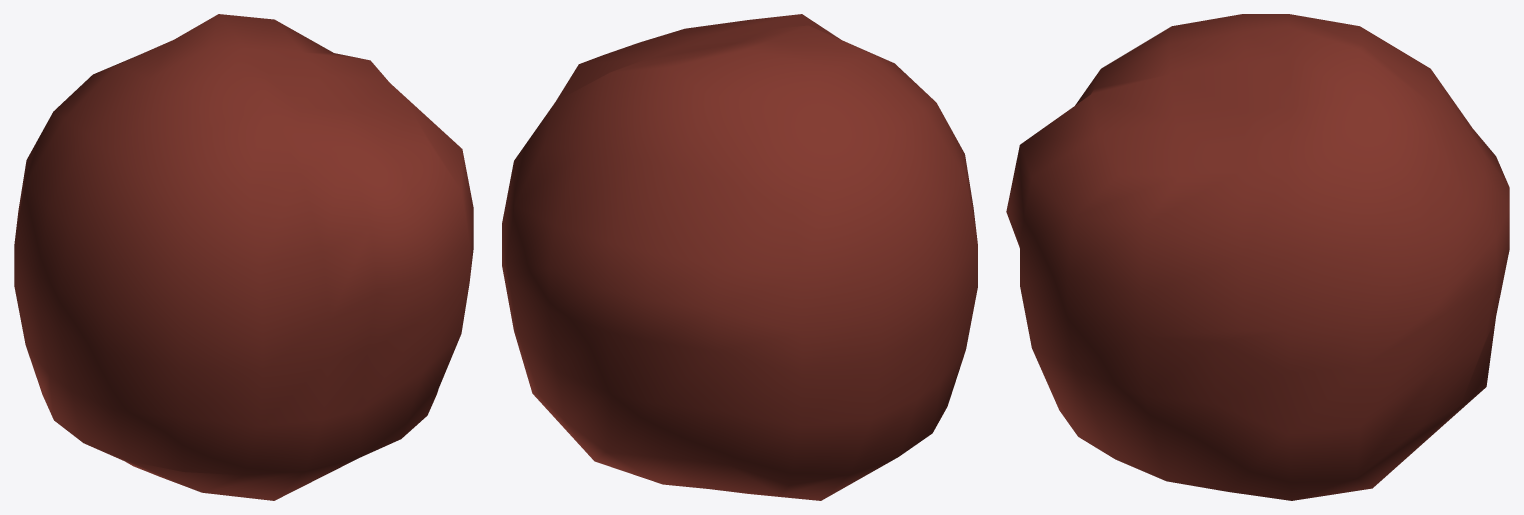
File: rock1.fbx
3 views of the same model, side by side, from view 1: azimuth 30°, elevation 25°; view 2: azimuth 150°, elevation 25°; view 3: azimuth 270°, elevation 25° (orthographic). The views are drawn at different scales.
Visible parts, largest first — view 1: Roundcube.014; view 2: Roundcube.014; view 3: Roundcube.014.
Part boxes in pixels (x1=…): Roundcube.014: x1=14, y1=14, x2=473, y2=500; Roundcube.014: x1=502, y1=14, x2=977, y2=500; Roundcube.014: x1=1006, y1=14, x2=1509, y2=500.
Size of the model in its own units: 94.15 by 99.3 by 102.
